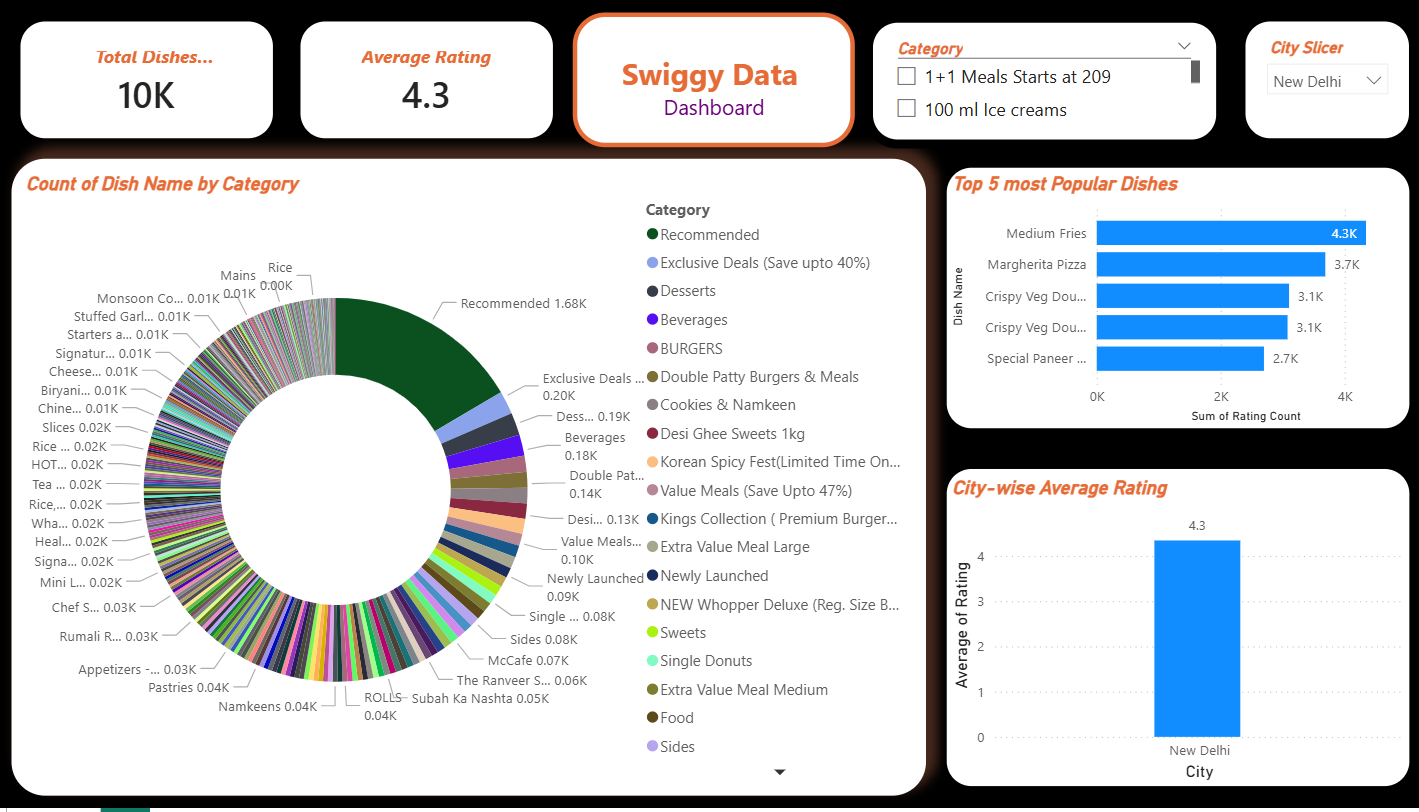

The page's visual inventory and layout, read from the dashboard file:
{"tool":"powerbi","page":{"name":"Page 1","canvas":[1280,720],"ordinal":0},"visuals":[{"type":"cardVisual","fields":{"Data":["CountNonNull(swiggy.Dish Name)"]},"box":[11,11,240.5,120.2],"z":0},{"type":"cardVisual","fields":{"Data":["Avg(swiggy.Rating)"]},"box":[260.1,11,240.5,120.2],"z":1},{"type":"clusteredColumnChart","title":"City-wise Average Rating","fields":{"Category":["swiggy.City"],"Y":["Avg(swiggy.Rating)"]},"box":[835.6,409.8,428.2,298.2],"z":2},{"type":"clusteredBarChart","title":"Top 5 most Popular Dishes","fields":{"Category":["swiggy.Dish Name"],"Y":["Sum(swiggy.Rating Count)"]},"box":[835.6,141.1,428.2,247.9],"z":3},{"type":"donutChart","fields":{"Category":["swiggy.Category"],"Y":["CountNonNull(swiggy.Dish Name)"]},"box":[11,141.1,814.7,566.9],"z":4},{"type":"slicer","fields":{"Values":["swiggy.City"]},"box":[1101.8,11,162,120.2],"z":5},{"type":"slicer","fields":{"Values":["swiggy.Category"]},"box":[770.6,12.3,321.5,120.2],"z":6},{"type":"textbox","box":[510.4,11,251.5,120.2],"z":7}]}

Visuals, with their boxes in screenshot pixels (x1, y1, x2, y2), scaled from the page's 1280x720 canvas onto the 1419x812 screenshot:
cardVisual - CountNonNull(swiggy.Dish Name): [x1=12, y1=12, x2=279, y2=148]
cardVisual - Avg(swiggy.Rating): [x1=288, y1=12, x2=555, y2=148]
"City-wise Average Rating" clusteredColumnChart: [x1=926, y1=462, x2=1401, y2=798]
"Top 5 most Popular Dishes" clusteredBarChart: [x1=926, y1=159, x2=1401, y2=439]
donutChart - swiggy.Category x CountNonNull(swiggy.Dish Name): [x1=12, y1=159, x2=915, y2=798]
slicer - swiggy.City: [x1=1221, y1=12, x2=1401, y2=148]
slicer - swiggy.Category: [x1=854, y1=14, x2=1211, y2=149]
textbox: [x1=566, y1=12, x2=845, y2=148]
